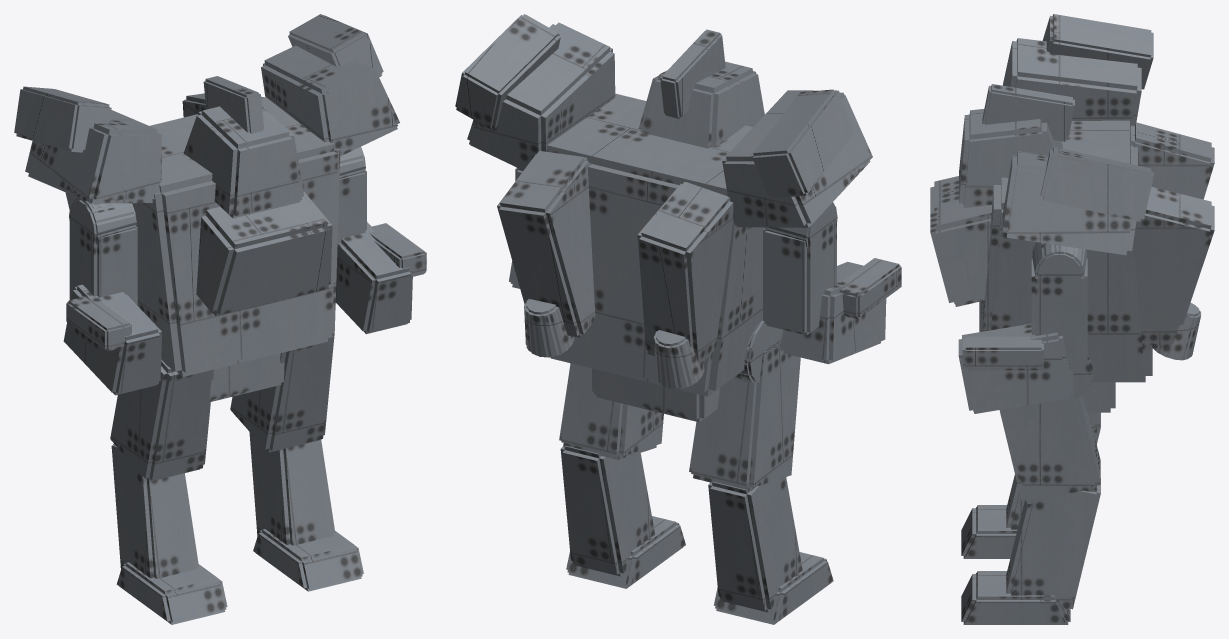
The model's file is vanguard.glb.
3 views of the same model, side by side, from view 1: azimuth 30°, elevation 25°; view 2: azimuth 150°, elevation 25°; view 3: azimuth 270°, elevation 25° (orthographic). The views are drawn at different scales.
Parts seen in each view (by area): view 1: torso, shoulder_l, shoulder_r, shin_l, shin_r, head, thigh_l, forearm_l, forearm_r, thigh_r, upper_arm_l, upper_arm_r; view 2: torso, shoulder_r, shoulder_l, shin_l, thigh_l, shin_r, head, upper_arm_l, forearm_l, thigh_r; view 3: torso, shoulder_r, shin_r, shoulder_l, thigh_r, head, forearm_r, upper_arm_r, shin_l.
Boxes of the visible parts, x1=… form: torso: x1=65, y1=93, x2=340, y2=402; shoulder_l: x1=14, y1=86, x2=161, y2=203; shoulder_r: x1=261, y1=14, x2=399, y2=156; shin_l: x1=111, y1=444, x2=227, y2=624; shin_r: x1=249, y1=432, x2=363, y2=591; head: x1=184, y1=76, x2=303, y2=218; thigh_l: x1=110, y1=359, x2=213, y2=481; forearm_l: x1=63, y1=284, x2=161, y2=395; forearm_r: x1=335, y1=222, x2=426, y2=334; thigh_r: x1=230, y1=333, x2=334, y2=452; upper_arm_l: x1=69, y1=198, x2=137, y2=305; upper_arm_r: x1=337, y1=147, x2=366, y2=243; torso: x1=497, y1=93, x2=764, y2=422; shoulder_r: x1=455, y1=14, x2=615, y2=170; shoulder_l: x1=722, y1=89, x2=872, y2=227; shin_l: x1=708, y1=477, x2=833, y2=624; thigh_l: x1=689, y1=320, x2=800, y2=491; shin_r: x1=560, y1=445, x2=685, y2=588; head: x1=638, y1=29, x2=764, y2=148; upper_arm_l: x1=763, y1=202, x2=837, y2=335; forearm_l: x1=780, y1=258, x2=901, y2=364; thigh_r: x1=559, y1=363, x2=663, y2=459; torso: x1=930, y1=120, x2=1214, y2=412; shoulder_r: x1=1002, y1=147, x2=1153, y2=255; shin_r: x1=961, y1=478, x2=1100, y2=624; shoulder_l: x1=1002, y1=14, x2=1153, y2=126; thigh_r: x1=999, y1=356, x2=1100, y2=504; head: x1=959, y1=84, x2=1074, y2=207; forearm_r: x1=958, y1=323, x2=1073, y2=413; upper_arm_r: x1=1031, y1=242, x2=1087, y2=363; shin_l: x1=961, y1=413, x2=1100, y2=558.
Bounding box in the file's own units: 1.19 × 1.76 × 0.9119.
1 material, 1 textured.
